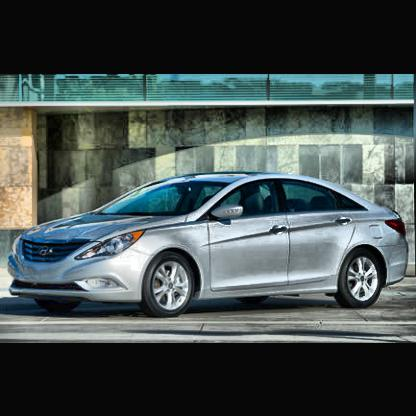Hyundai Sonata Sedan 2012: (9, 170, 414, 320)
